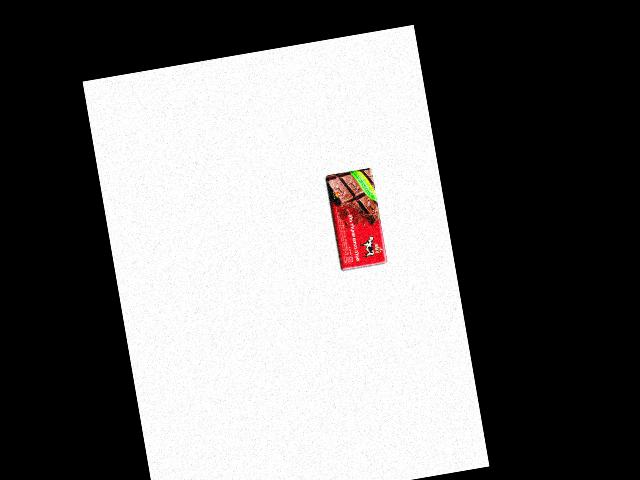chocolate: (320, 167, 389, 274)
